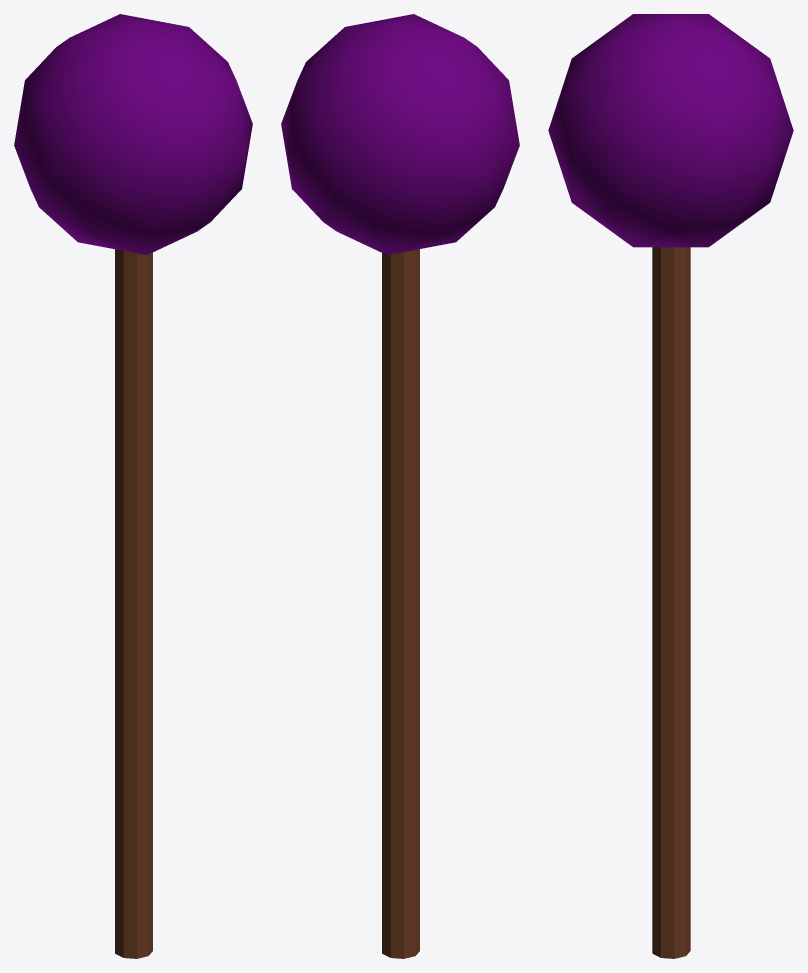
File: VampirePlayerStaff.fbx
3 views of the same model, side by side, from view 1: azimuth 30°, elevation 25°; view 2: azimuth 150°, elevation 25°; view 3: azimuth 270°, elevation 25° (orthographic).
Visible parts, largest first — view 1: Icosphere.006, Cylinder; view 2: Icosphere.006, Cylinder; view 3: Icosphere.006, Cylinder.
Part boxes in pixels (x1,y1,x2,y2): Icosphere.006: [14, 14, 252, 255]; Cylinder: [115, 249, 152, 958]; Icosphere.006: [281, 14, 519, 255]; Cylinder: [382, 249, 419, 958]; Icosphere.006: [548, 14, 793, 247]; Cylinder: [652, 247, 690, 958].
Size of the model in its own units: 0.3947 by 1.74 by 0.415.
